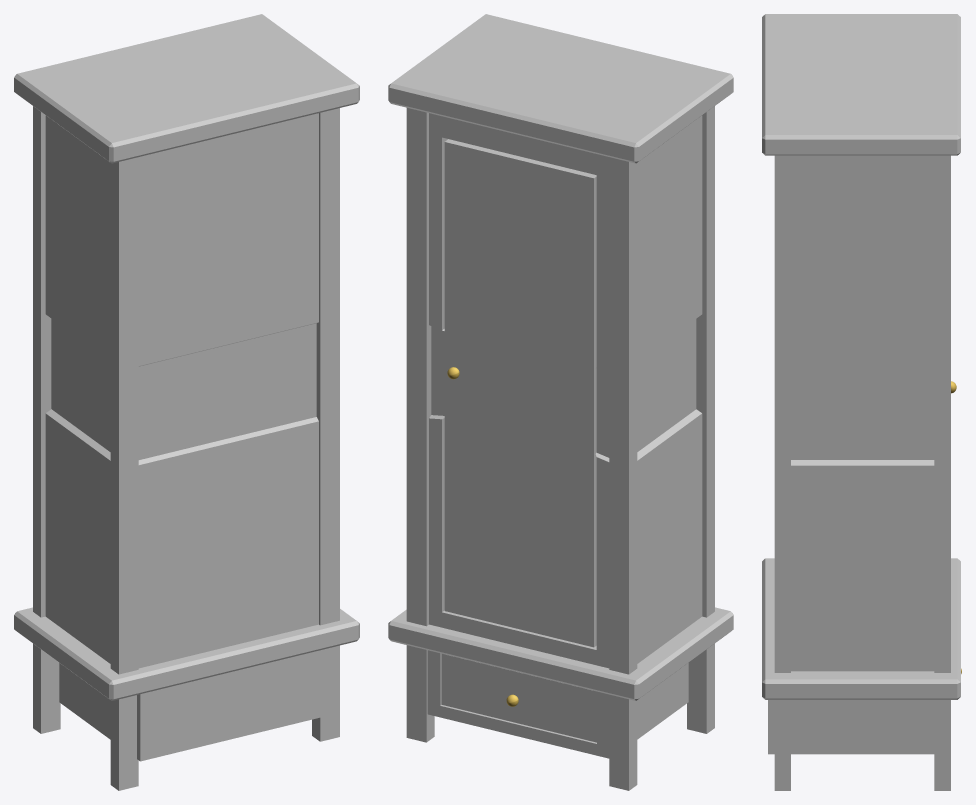
Rendered from Guest Wadrobe.fbx.
The picture shows the model from 3 angles, left to right: view 1: azimuth 30°, elevation 25°; view 2: azimuth 150°, elevation 25°; view 3: azimuth 270°, elevation 25°; orthographic projection.
Parts seen in each view (by area): view 1: pCube1274, pCube1275, pCube1279, pCube1282, pCube1278, pCube1276, pCube1280; view 2: pCube1281, pCube1274, pCube1275, pCube1280, pCube1277, pCube1276, pCube1279, pCube1284, pCube1282; view 3: pCube1274, pCube1275, pCube1277, pCube1278, pCube1282, pCube1276.
Boxes of the visible parts, x1=… form: pCube1274: x1=45, y1=113, x2=318, y2=668; pCube1275: x1=14, y1=14, x2=359, y2=163; pCube1279: x1=110, y1=157, x2=138, y2=790; pCube1282: x1=59, y1=649, x2=324, y2=761; pCube1278: x1=312, y1=108, x2=339, y2=741; pCube1276: x1=14, y1=607, x2=359, y2=700; pCube1280: x1=33, y1=106, x2=60, y2=733; pCube1281: x1=444, y1=139, x2=596, y2=647; pCube1274: x1=429, y1=113, x2=702, y2=668; pCube1275: x1=388, y1=14, x2=733, y2=163; pCube1280: x1=609, y1=157, x2=637, y2=790; pCube1277: x1=406, y1=108, x2=434, y2=742; pCube1276: x1=388, y1=607, x2=733, y2=700; pCube1279: x1=687, y1=106, x2=714, y2=733; pCube1284: x1=441, y1=654, x2=596, y2=742; pCube1282: x1=427, y1=650, x2=688, y2=758; pCube1274: x1=791, y1=155, x2=934, y2=671; pCube1275: x1=762, y1=14, x2=960, y2=155; pCube1277: x1=934, y1=155, x2=950, y2=790; pCube1278: x1=774, y1=155, x2=790, y2=790; pCube1282: x1=768, y1=700, x2=934, y2=754; pCube1276: x1=762, y1=558, x2=960, y2=699.
Bounding box in the file's own units: 219 × 545 × 149.
